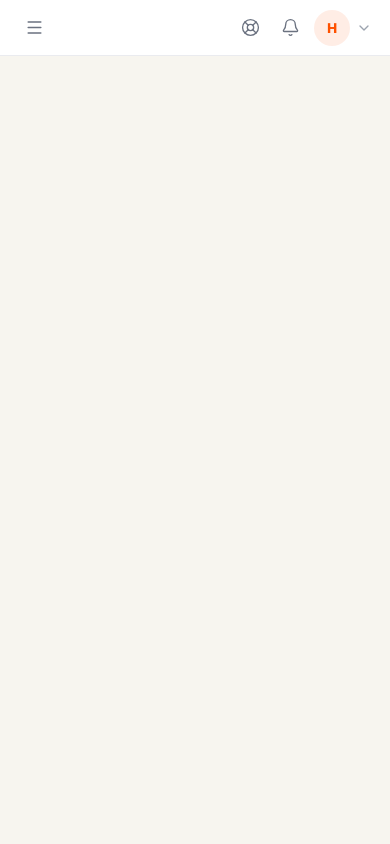
Test case: mobile — popups + nav drawer › the nav hamburger opens the drawer and Esc closes it
The width and height of the screenshot is (390, 844).
Click the button named "Open navigation": (34, 28) [16, 6, 52, 50]
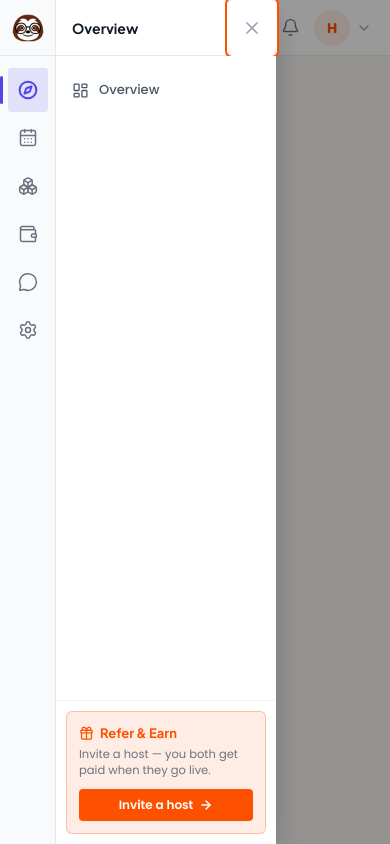
Expected: the dialog named "Navigation" is shown
Expected: the button named "Close navigation" is shown, [228, 0, 276, 55]
Expected: the navigation bar named "Sections" is shown, [0, 56, 56, 843]
Press Escape
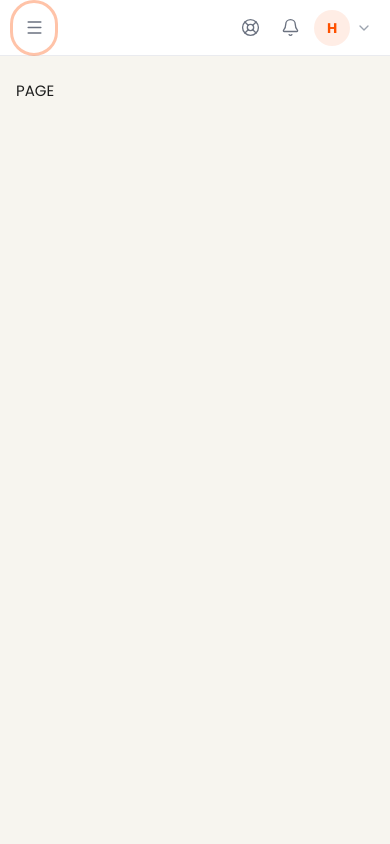
Expected: the button "Navigation" is gone
